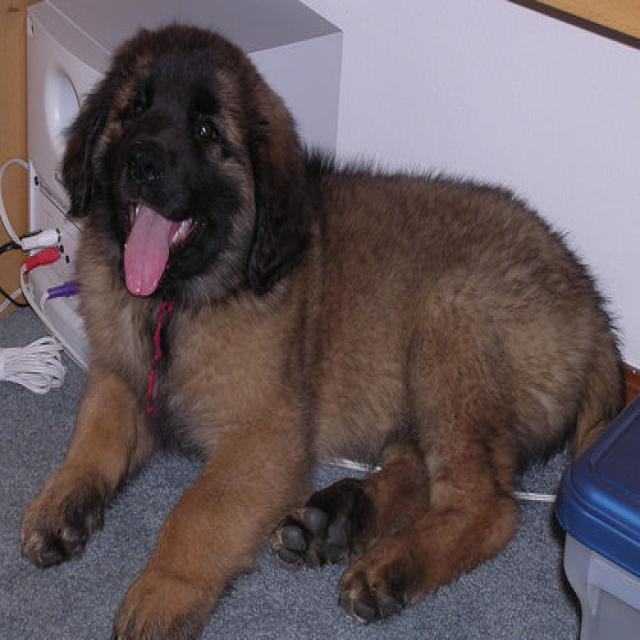dog-leonberger: (10, 7, 637, 637)
